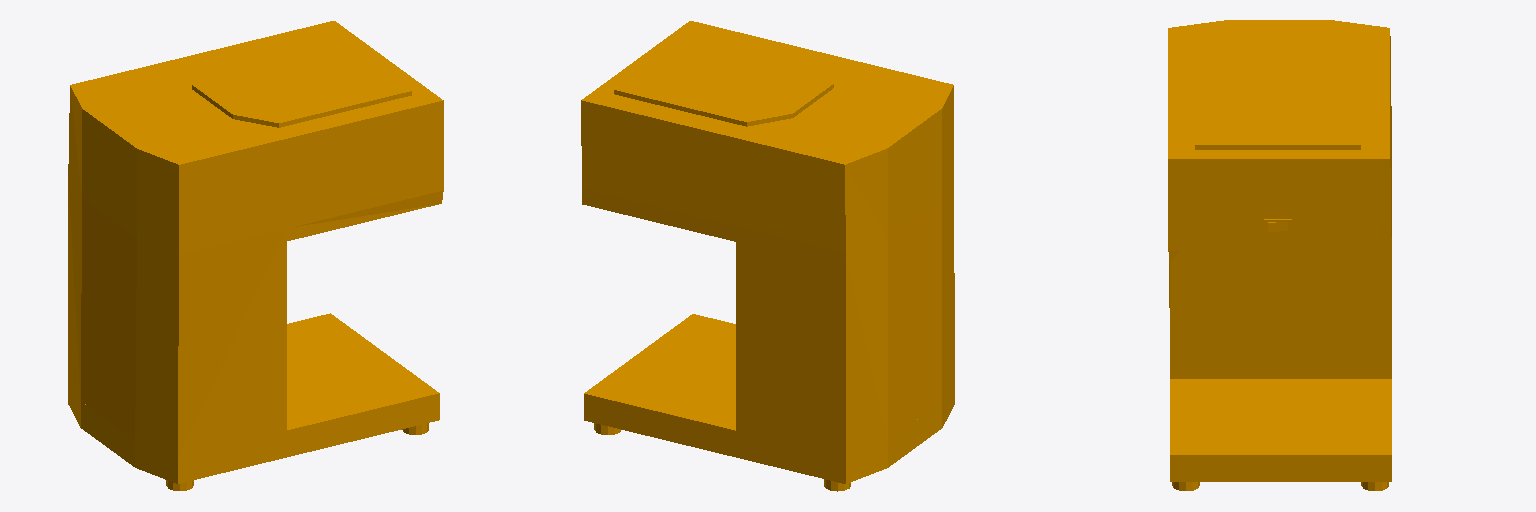
The robot description file, URDF, robot "steak":
<?xml version="1.0"?>
<robot name="steak">
  <link name="object">
    <visual>
      <origin xyz="0 0 0" rpy="1.57079632679 0 0"/>
      <geometry>
        <mesh filename="visuals/model.obj" scale="0.45 0.45 0.45"/>
      </geometry>
    </visual>
    <collision>
      <origin xyz="0 0 0" rpy="1.57079632679 0 0"/>
      <geometry>
        <mesh filename="visuals/model.obj" scale="0.45 0.45 0.45"/>
      </geometry>
    </collision>
    <inertial>
      <mass value="1.0"/>
      <inertia ixx="0.1" ixy="0.0" ixz="0.0" iyy="0.1" iyz="0.0" izz="0.1"/>
    </inertial>
  </link>
</robot>

--- Facts derived from the render (not from the file) ---
The picture shows the robot from 3 angles, left to right: view 1: azimuth 30°, elevation 25°; view 2: azimuth 150°, elevation 25°; view 3: azimuth 270°, elevation 25°; orthographic projection.
Robot: steak — 1 links, 0 joints (none); root link object; default pose: all joints at 0.
Visible links, largest first — view 1: object; view 2: object; view 3: object.
Link boxes in pixels (x1,y1,x2,y2): object: (68, 21, 443, 490); object: (581, 21, 954, 491); object: (1168, 20, 1391, 490).
Bounding box of the posed robot: 0.5956 × 0.3983 × 0.6705 m (x, y, z).
Meshes: 1 distinct files referenced, 1 mesh visuals loaded (1 OBJ).